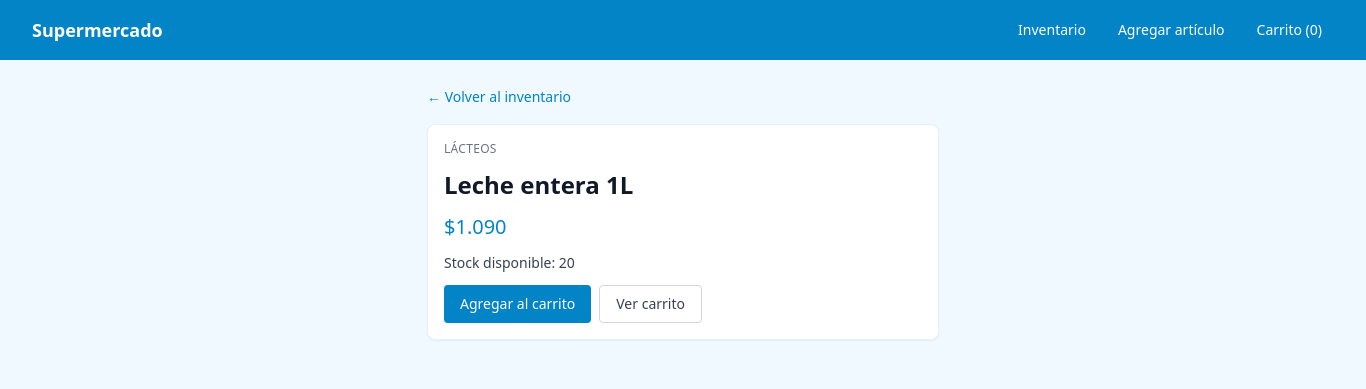
Test: Detalle y carrito › finalizar compra vacía el carrito
This screenshot has width=1366, height=389.
Click the button "Agregar al carrito" at (518, 304), box [444,285,591,323]
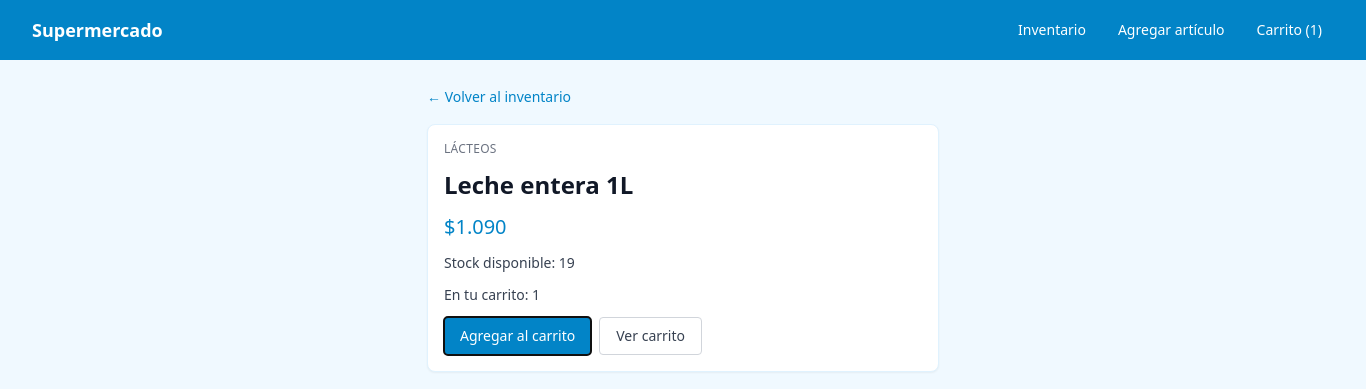
Click the link "Ver carrito" at (651, 336), box [599,317,702,355]
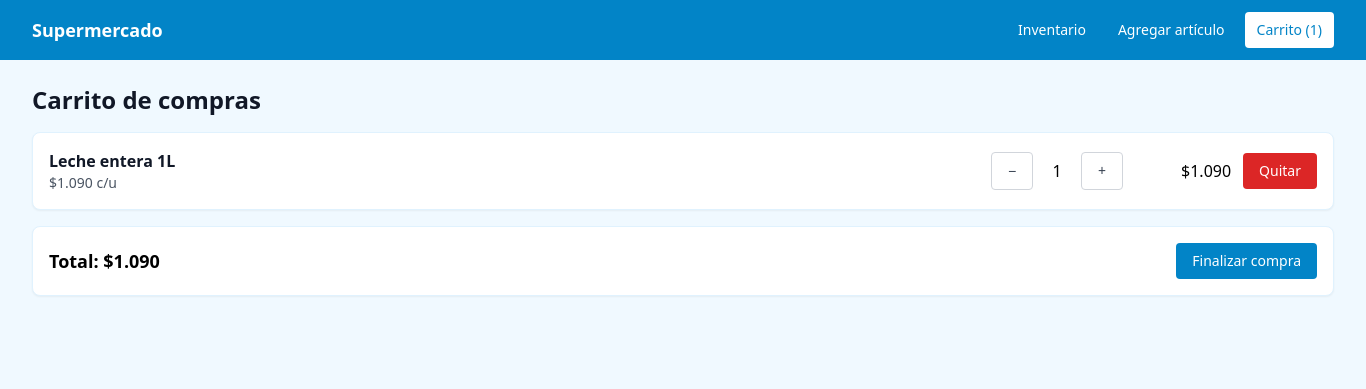
Click the button "Finalizar compra" at (1247, 261), box [1176,243,1317,279]
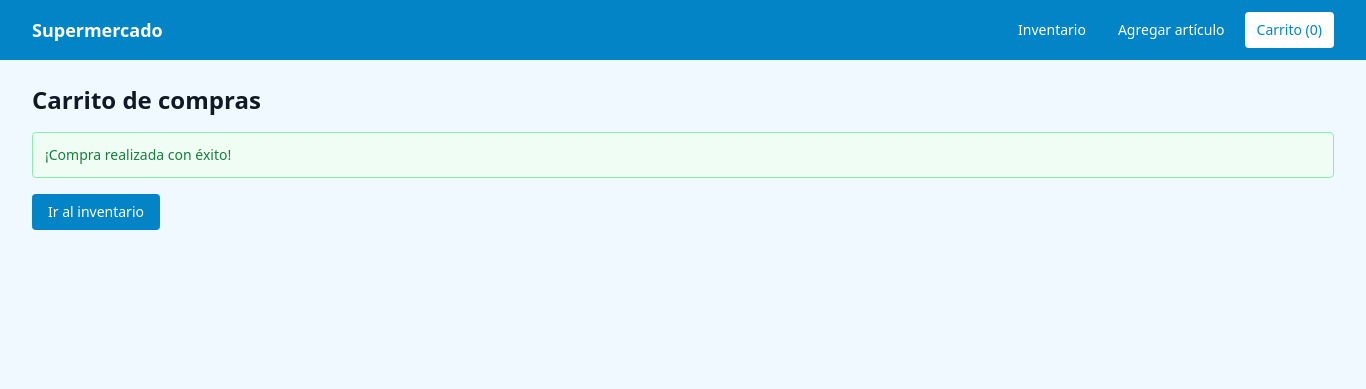
Expected: the text "¡Compra realizada con éxito!" is shown, [32,132,1334,178]
